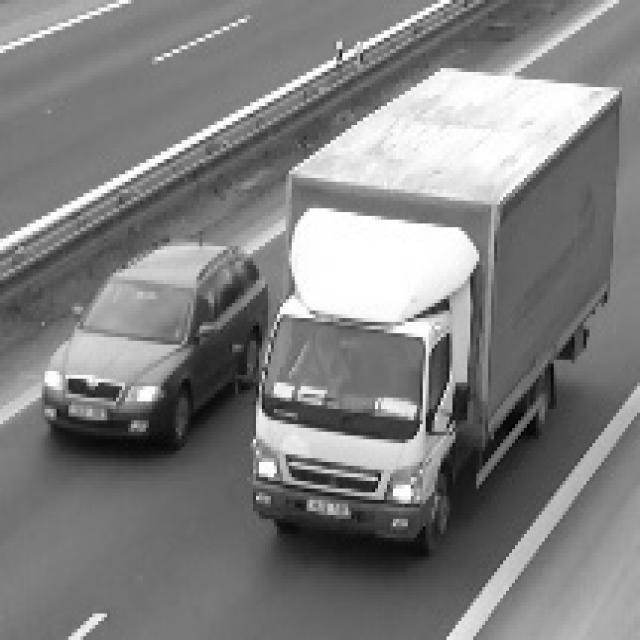truck: (237, 268, 491, 557)
